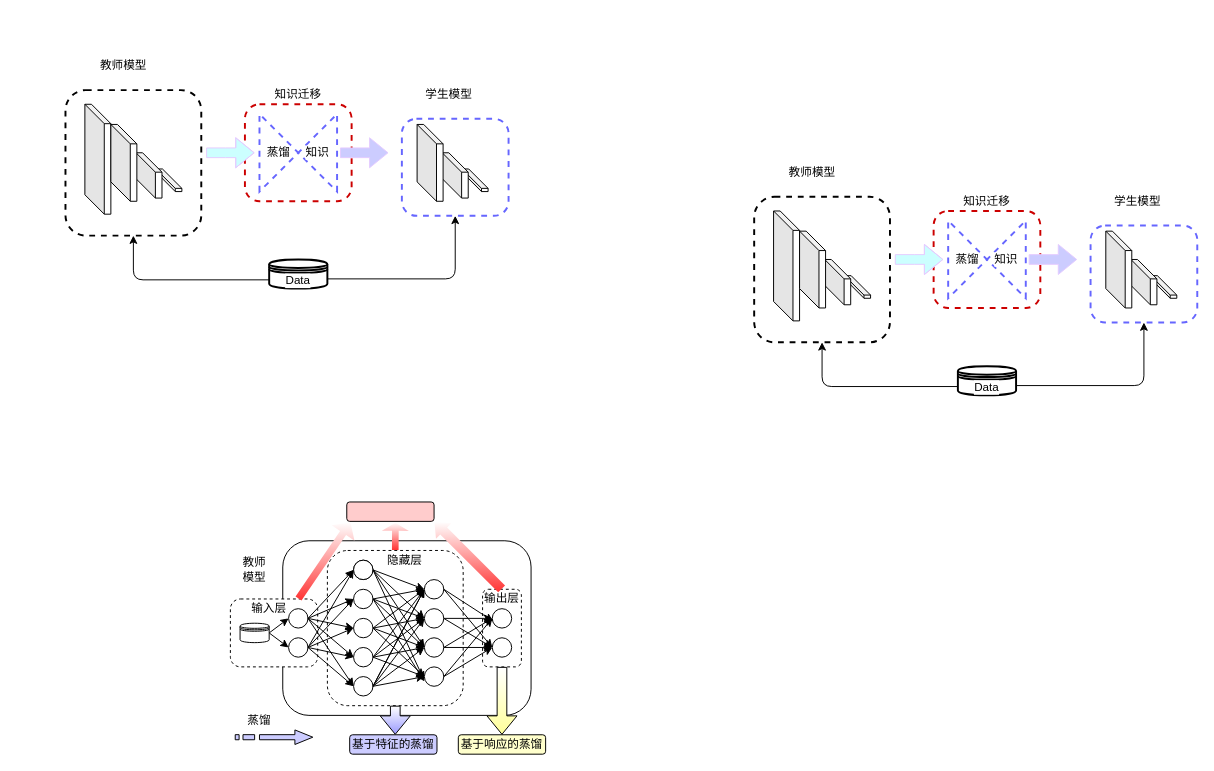
Some shapes in this 1214 by 771 pixel diagram are drawn without their labels. The shapes that lost their labels are listed below. From the top down, each one's centre as x and y in pixels, then its label:
At (x=390, y=511): "基于关系的蒸馏".
At (x=254, y=632): "数据".
